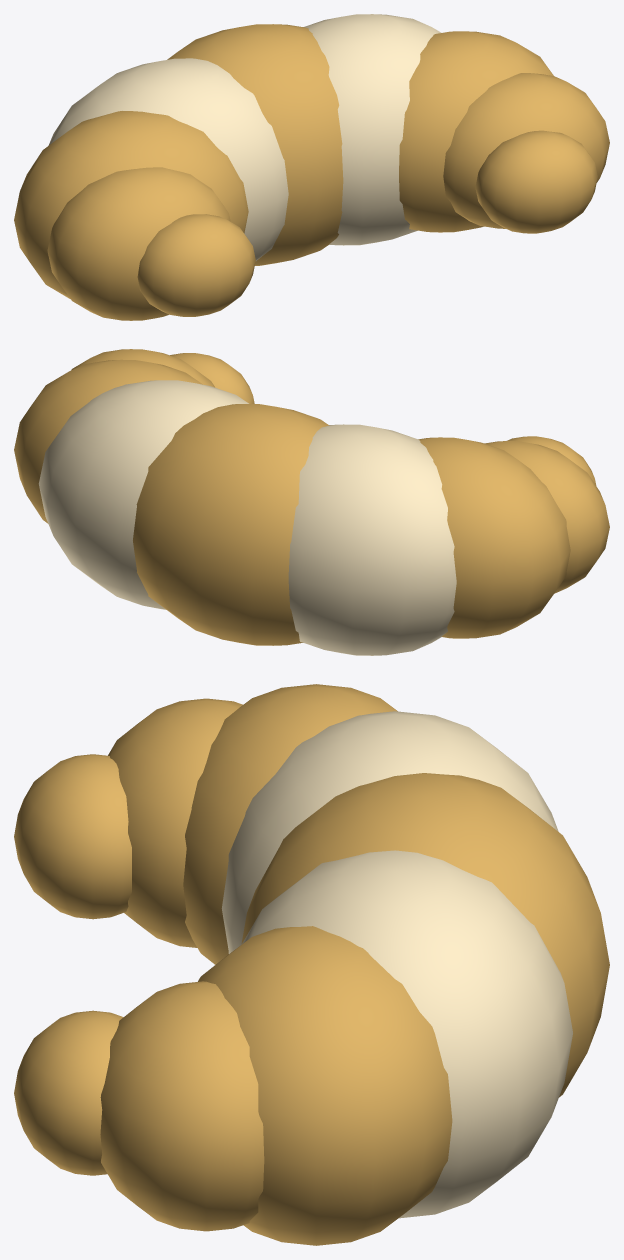
The model's file is croissant.glb.
The picture shows the model from 3 angles, top to bottom: view 1: azimuth 30°, elevation 25°; view 2: azimuth 150°, elevation 25°; view 3: azimuth 270°, elevation 25°; orthographic projection. The views are drawn at different scales.
Visible parts, largest first — view 1: croissant; view 2: croissant; view 3: croissant.
Boxes of the visible parts, <box> form: croissant: <box>14,14,609,320</box>; croissant: <box>14,349,609,655</box>; croissant: <box>14,684,609,1245</box>.
Bounding box in the file's own units: 1 × 0.3843 × 0.6154.
